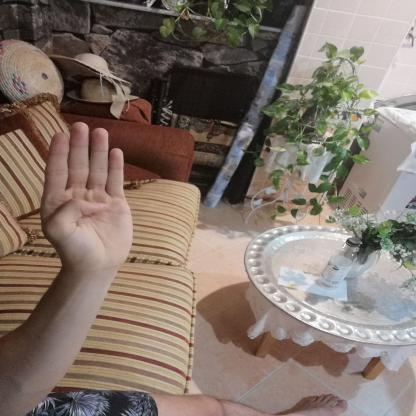KAAF: (23, 112, 150, 283)
